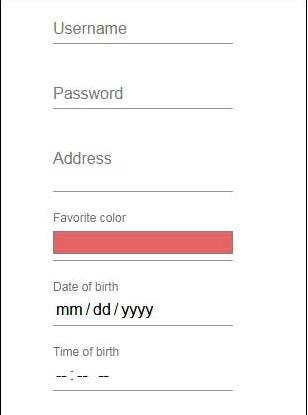field_line: (49, 152, 234, 195), (50, 295, 234, 328), (49, 15, 234, 47), (49, 80, 233, 112), (48, 363, 237, 393)
field_line_with_label: (47, 346, 239, 395), (48, 281, 237, 329)
